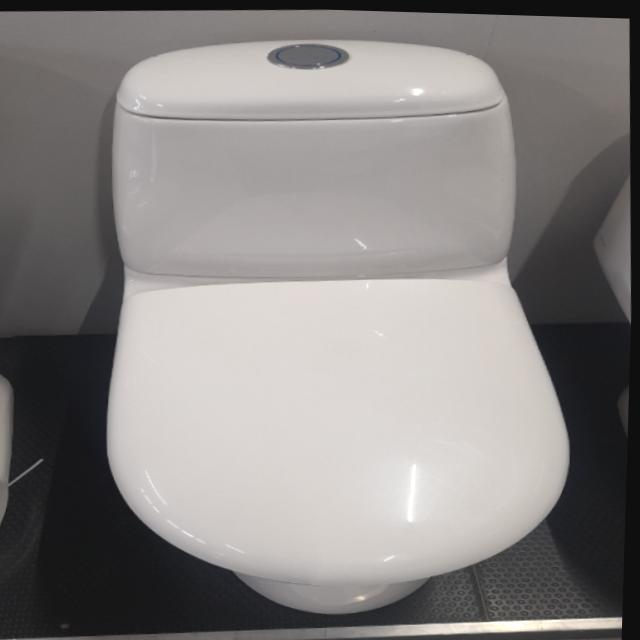toilet: (89, 22, 589, 625)
